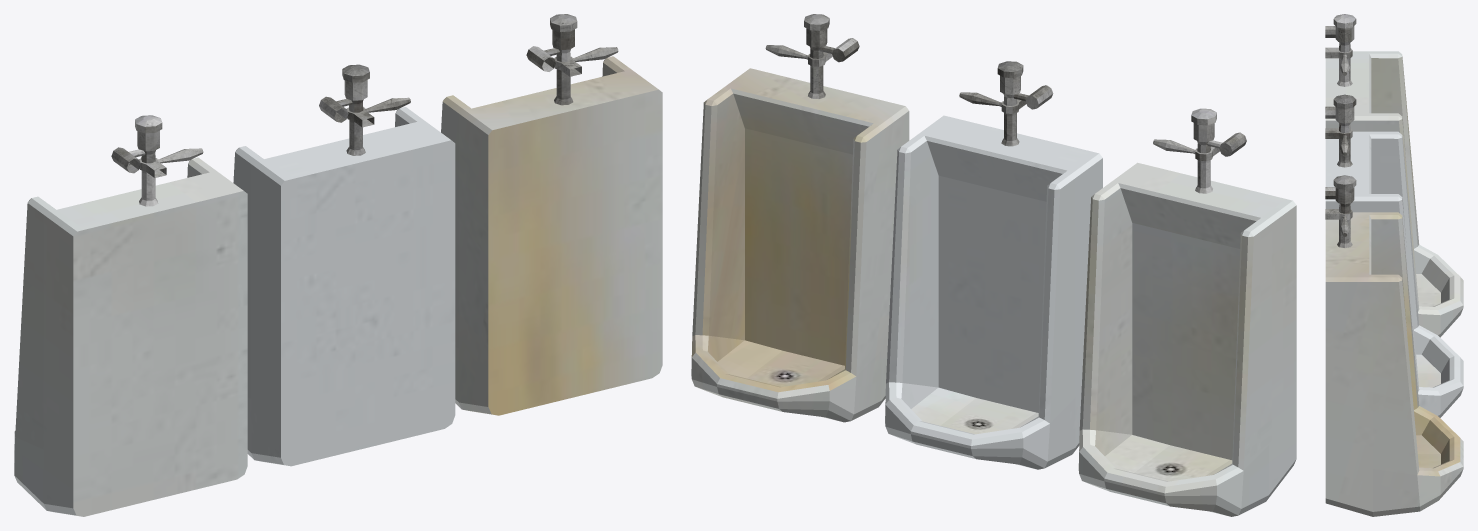
File: Mens.fbx
3 views of the same model, side by side, from view 1: azimuth 30°, elevation 25°; view 2: azimuth 150°, elevation 25°; view 3: azimuth 270°, elevation 25° (orthographic). The views are drawn at different scales.
Visible parts, largest first — view 1: Urinal lp1.001, Urinal lp1, Urinal lp1.002; view 2: Urinal lp1.001, Urinal lp1.002, Urinal lp1; view 3: Urinal lp1.002, Urinal lp1, Urinal lp1.001.
Boxes of the visible parts, <box> form: Urinal lp1.001: <box>14,115,247,516</box>; Urinal lp1: <box>233,64,455,466</box>; Urinal lp1.002: <box>441,14,662,415</box>; Urinal lp1.001: <box>1078,108,1296,516</box>; Urinal lp1.002: <box>691,14,909,422</box>; Urinal lp1: <box>885,61,1102,469</box>; Urinal lp1.002: <box>1325,175,1463,516</box>; Urinal lp1: <box>1325,94,1463,417</box>; Urinal lp1.001: <box>1325,14,1463,337</box>.
Bounding box in the file's own units: 142 × 89.39 × 36.18.
Materials: 2 (2 with a texture image).
